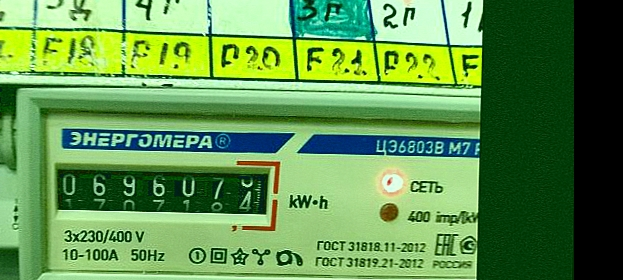0: (58, 170, 76, 194), (178, 171, 194, 196)
4: (235, 187, 252, 212)
6: (148, 171, 166, 196), (88, 171, 106, 195)
7: (208, 174, 224, 200)
9: (118, 171, 135, 196)
screen: (39, 148, 283, 227)
